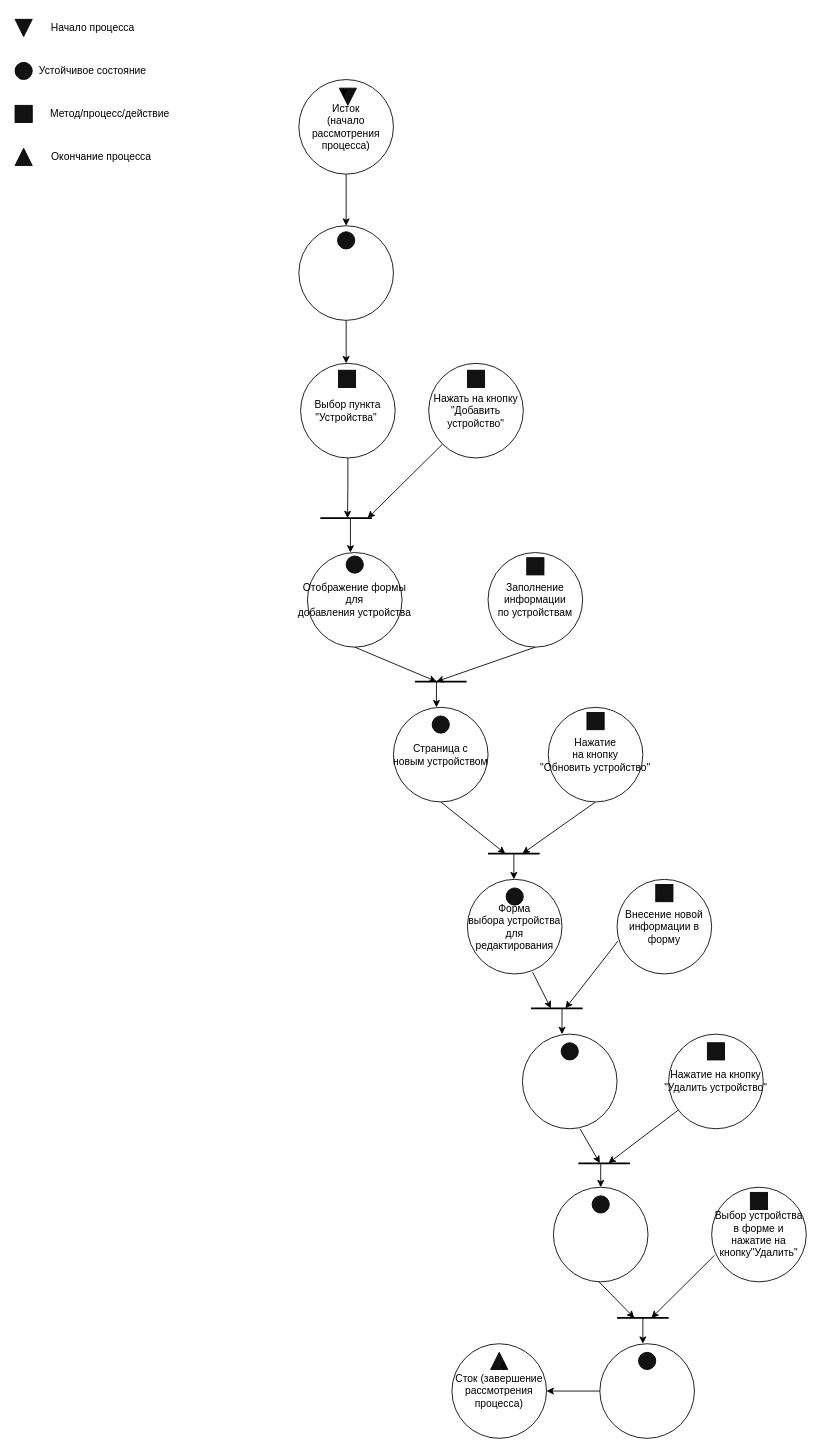
The diagram is 821 pixels wide and 1453 high, and some of its shapes have lost their labels. The shapes that lost their labels are listed below. From the top down, each one's box as (x1, y1, x2, y2) in pixels, then its label:
(298, 225, 393, 320): Исходная страница без созданных покупателей
(522, 1033, 617, 1129): Страница с измененным устройством
(553, 1186, 648, 1282): Форма для выбора устройства для удаления
(599, 1343, 694, 1438): Исходная страница
